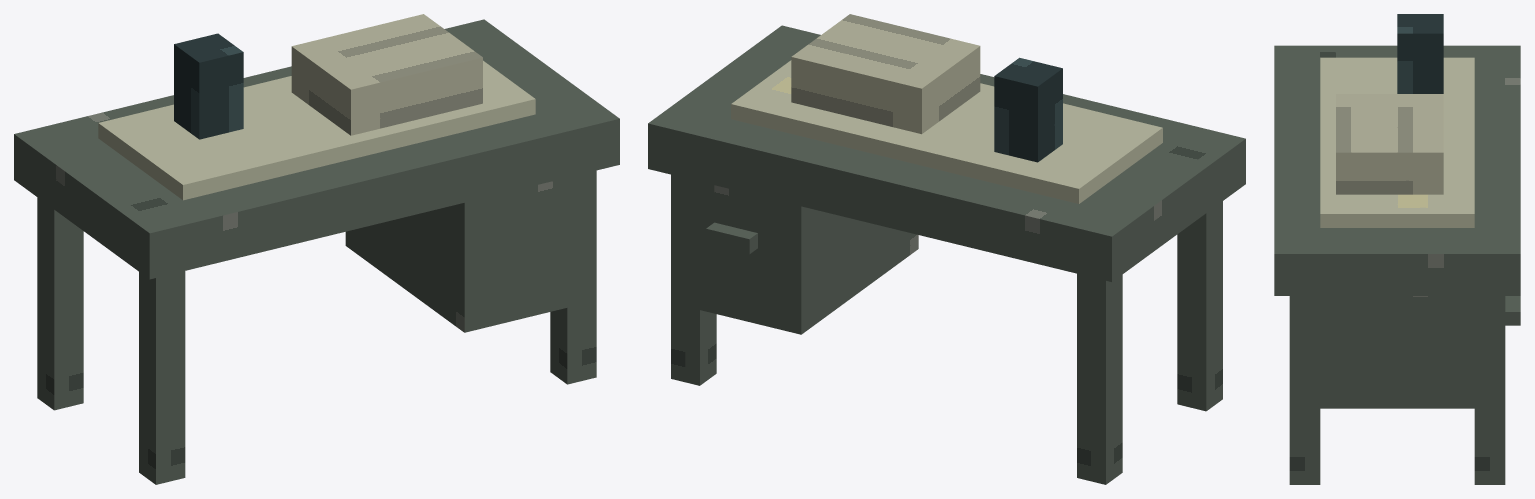
The model's file is medical_trolley.gltf.
3 views of the same model, side by side, from view 1: azimuth 30°, elevation 25°; view 2: azimuth 150°, elevation 25°; view 3: azimuth 270°, elevation 25° (orthographic). The views are drawn at different scales.
Parts seen in each view (by area): view 1: top, leg (×3), drawer, tray, supplies, bottle; view 2: top, leg (×3), drawer, tray, supplies, bottle, pull; view 3: top, drawer, tray, leg (×2), supplies, bottle, pull.
Part boxes in pixels (left/top/right/bottom): top: left=14, top=19, right=619, bottom=279; leg (×3): left=37, top=170, right=596, bottom=484; drawer: left=345, top=174, right=581, bottom=332; tray: left=98, top=60, right=535, bottom=200; supplies: left=291, top=14, right=482, bottom=135; bottle: left=174, top=33, right=243, bottom=139; top: left=648, top=25, right=1245, bottom=281; leg (×3): left=671, top=174, right=1222, bottom=484; drawer: left=685, top=178, right=918, bottom=334; tray: left=731, top=60, right=1162, bottom=203; supplies: left=791, top=14, right=980, bottom=134; bottle: left=994, top=57, right=1062, bottom=162; pull: left=706, top=222, right=757, bottom=254; top: left=1274, top=45, right=1520, bottom=295; drawer: left=1320, top=296, right=1474, bottom=408; tray: left=1320, top=57, right=1474, bottom=227; leg (×2): left=1289, top=296, right=1505, bottom=484; supplies: left=1336, top=94, right=1443, bottom=194; bottle: left=1397, top=14, right=1443, bottom=93; pull: left=1505, top=296, right=1520, bottom=325.
Size of the model in its own units: 2 by 1.44 by 1.
Materials: 4 (4 with a texture image).
